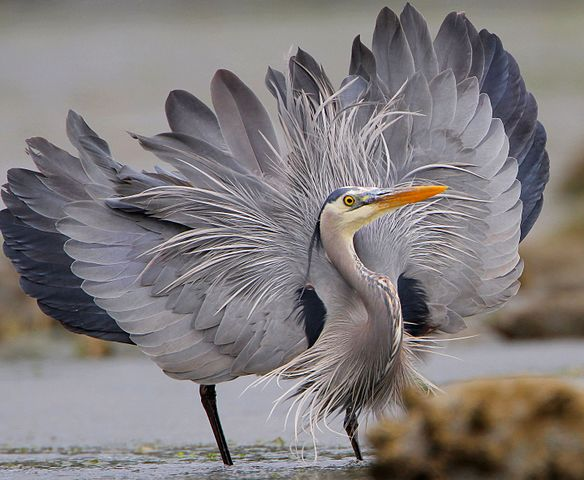heron: (1, 1, 549, 432)
